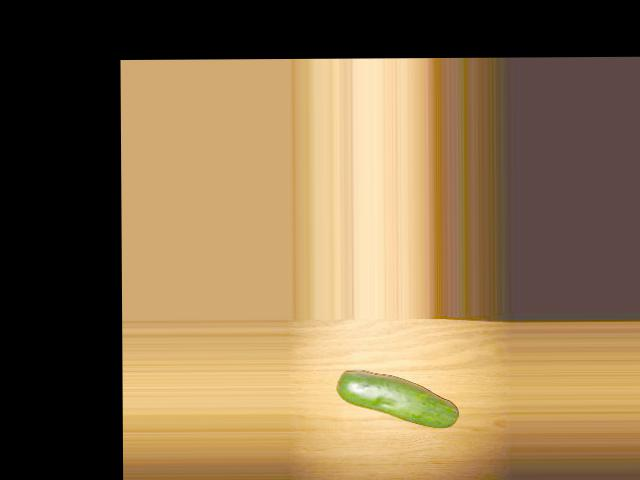cucumber: (338, 369, 459, 428)
